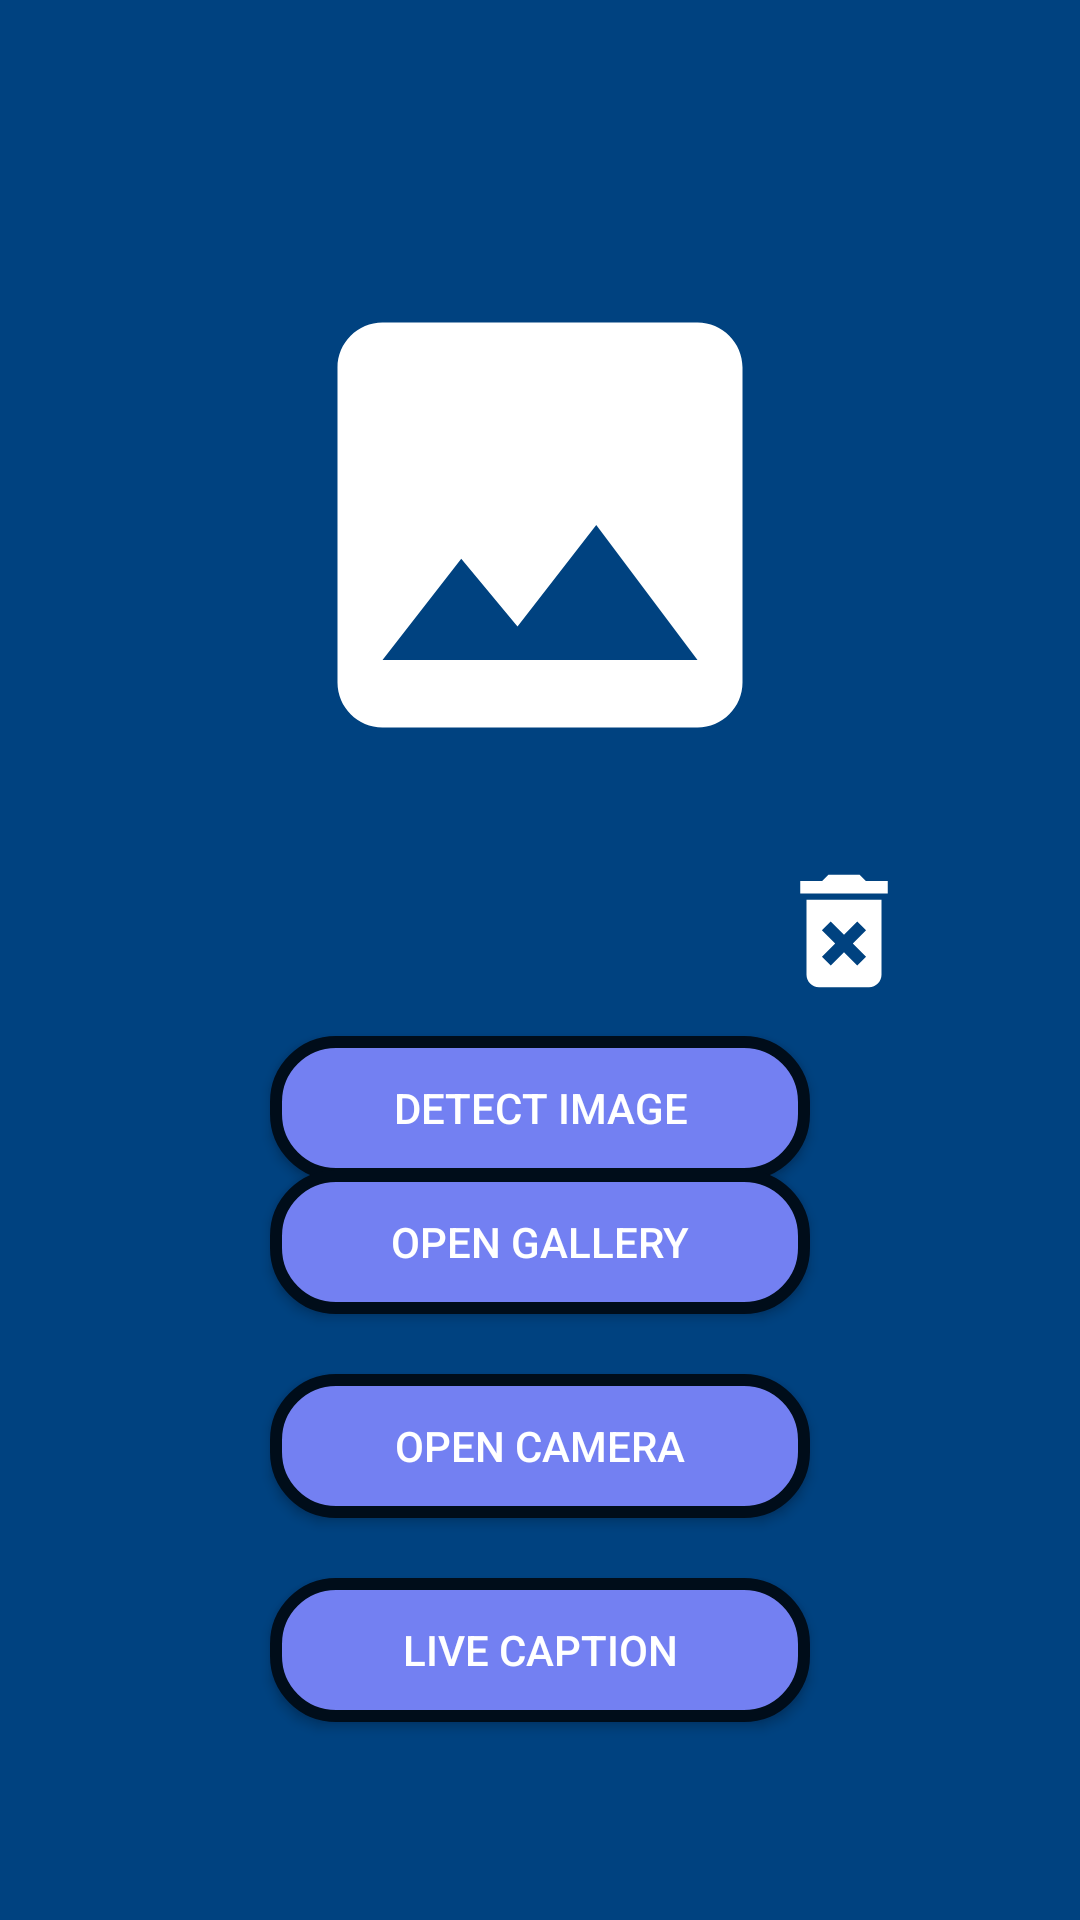

Icons on this 1080*1920 Android screen, each with its box as {"left": x1, "top": y1, "right": x2, "bottom": y2}:
delete: {"left": 800, "top": 874, "right": 888, "bottom": 988}
